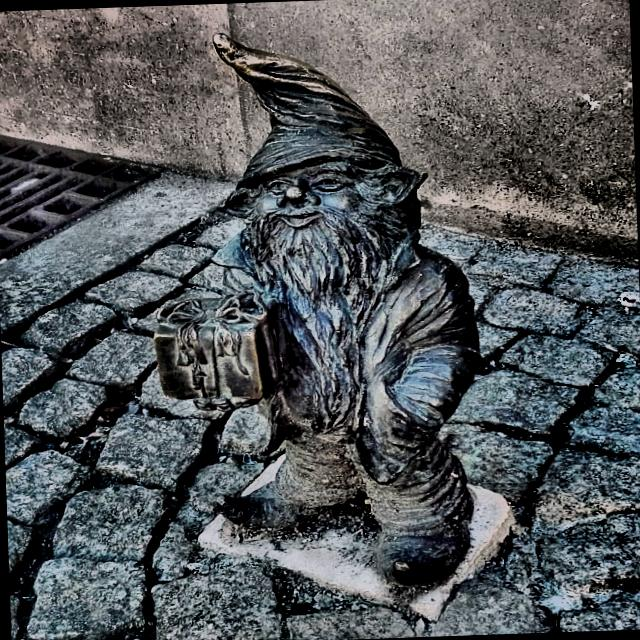Suvenirek: (153, 34, 480, 587)
